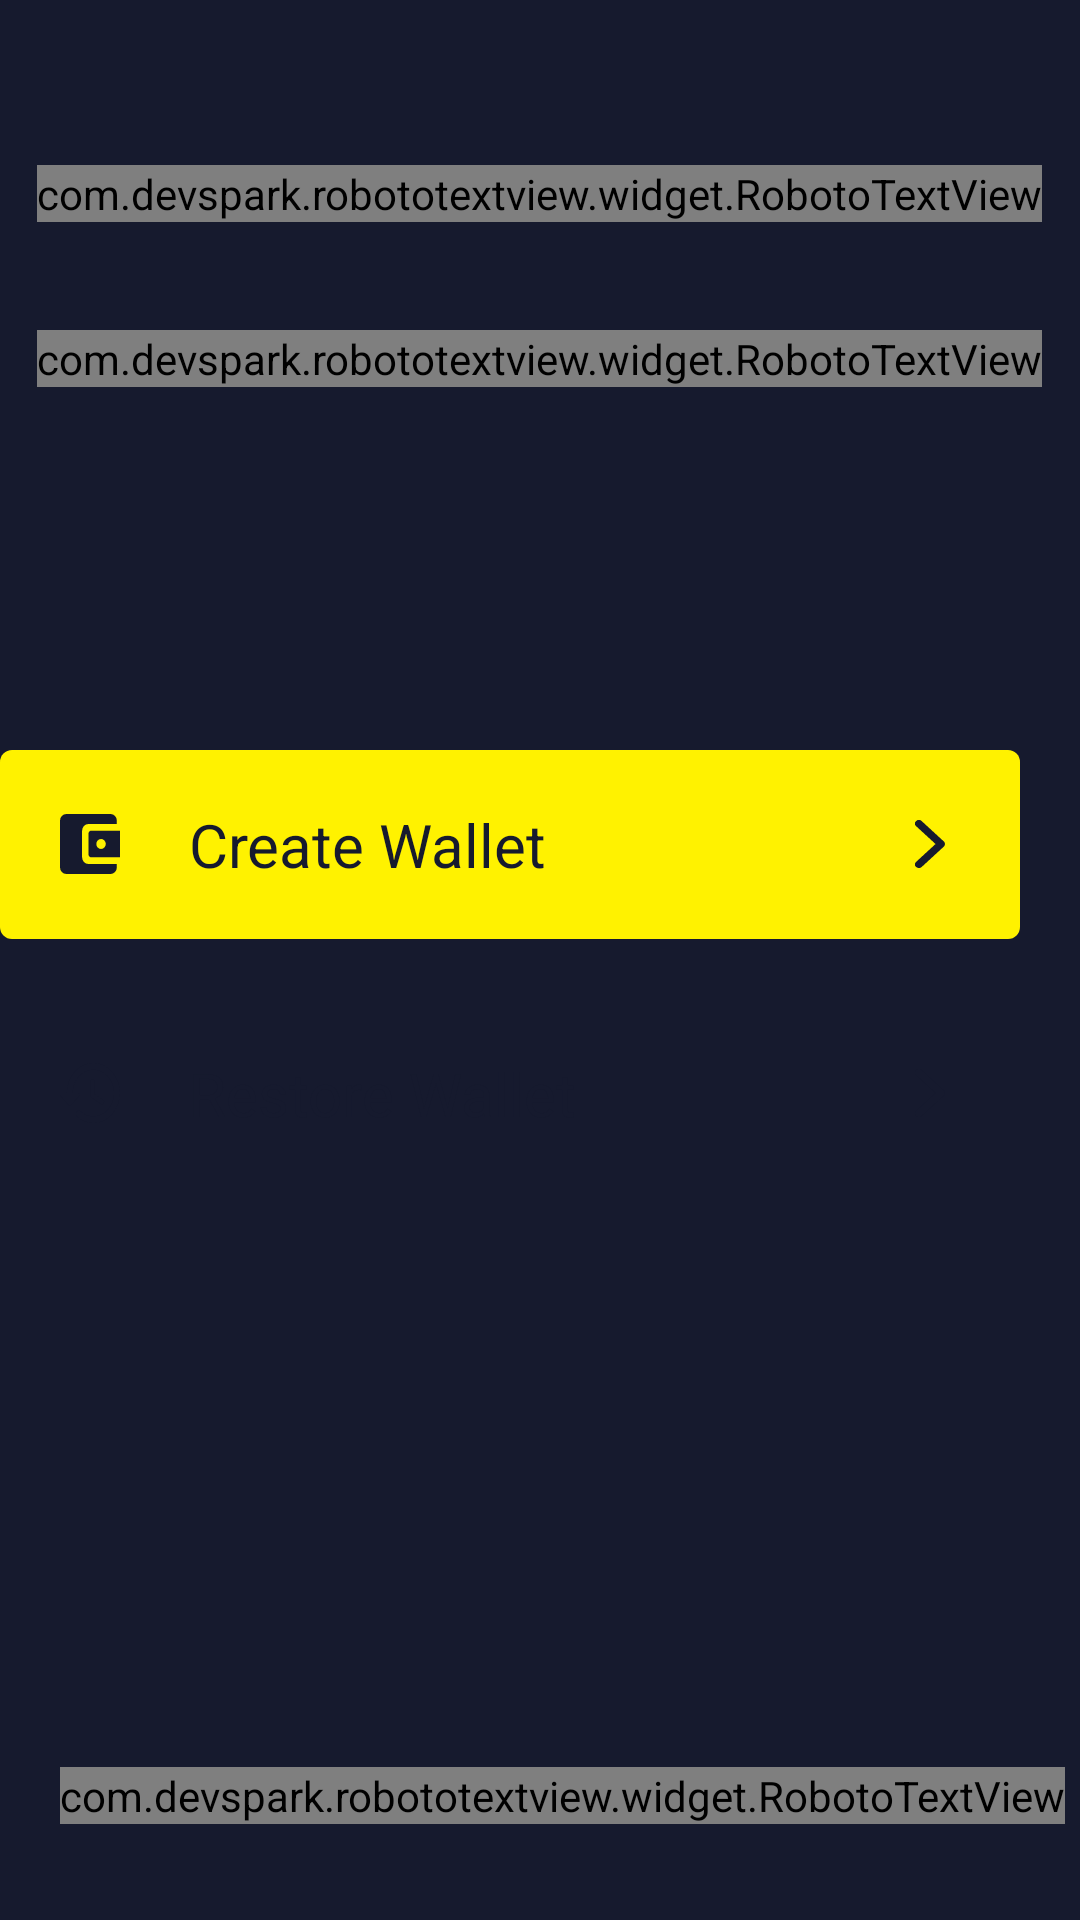

Named icons in this screenshot (1080px×1920px) and their bounding boxes, box(x1, y1, x2, y2):
arrow: box(915, 820, 945, 868)
